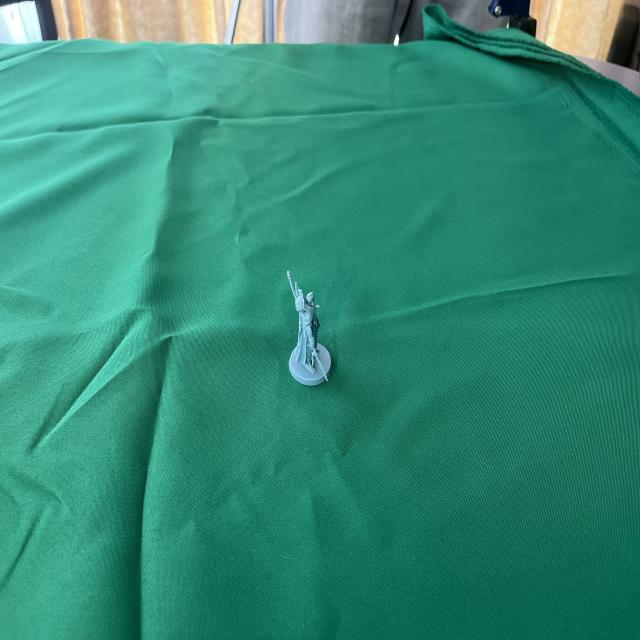isis_follower: (278, 260, 339, 395)
